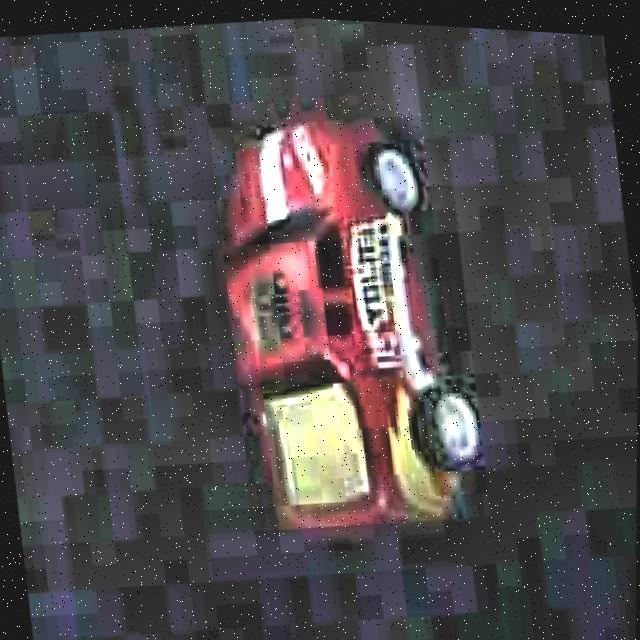car: (187, 87, 498, 552)
